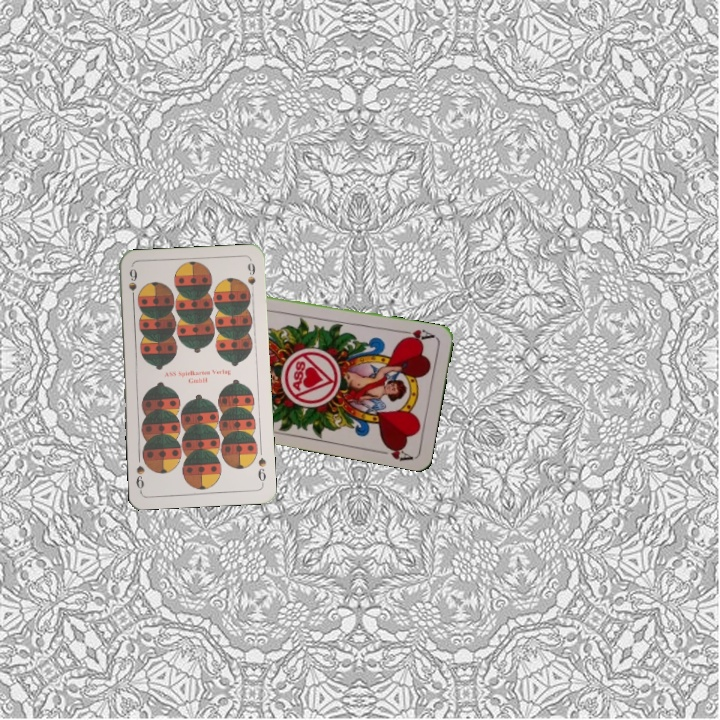HA: (397, 325, 437, 344)
S9: (124, 265, 140, 305), (254, 453, 269, 487)
